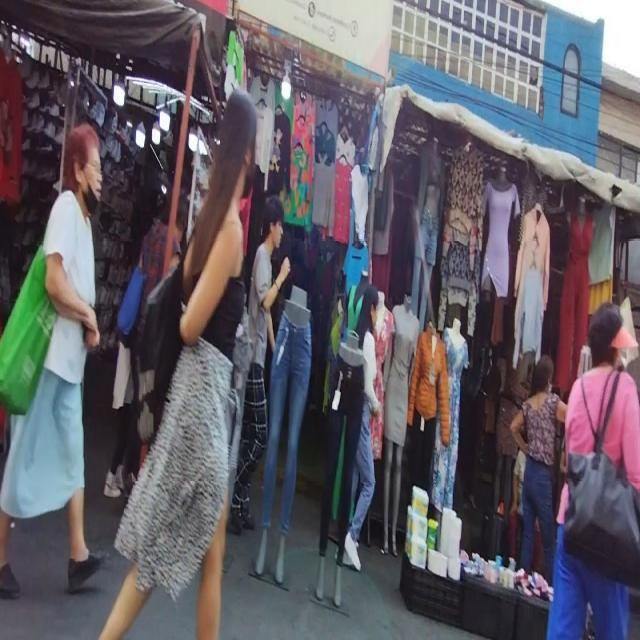adult: (100, 93, 259, 640), (0, 126, 104, 594), (550, 299, 640, 640), (105, 190, 186, 496), (234, 199, 291, 529), (511, 356, 566, 572), (345, 286, 379, 565)
